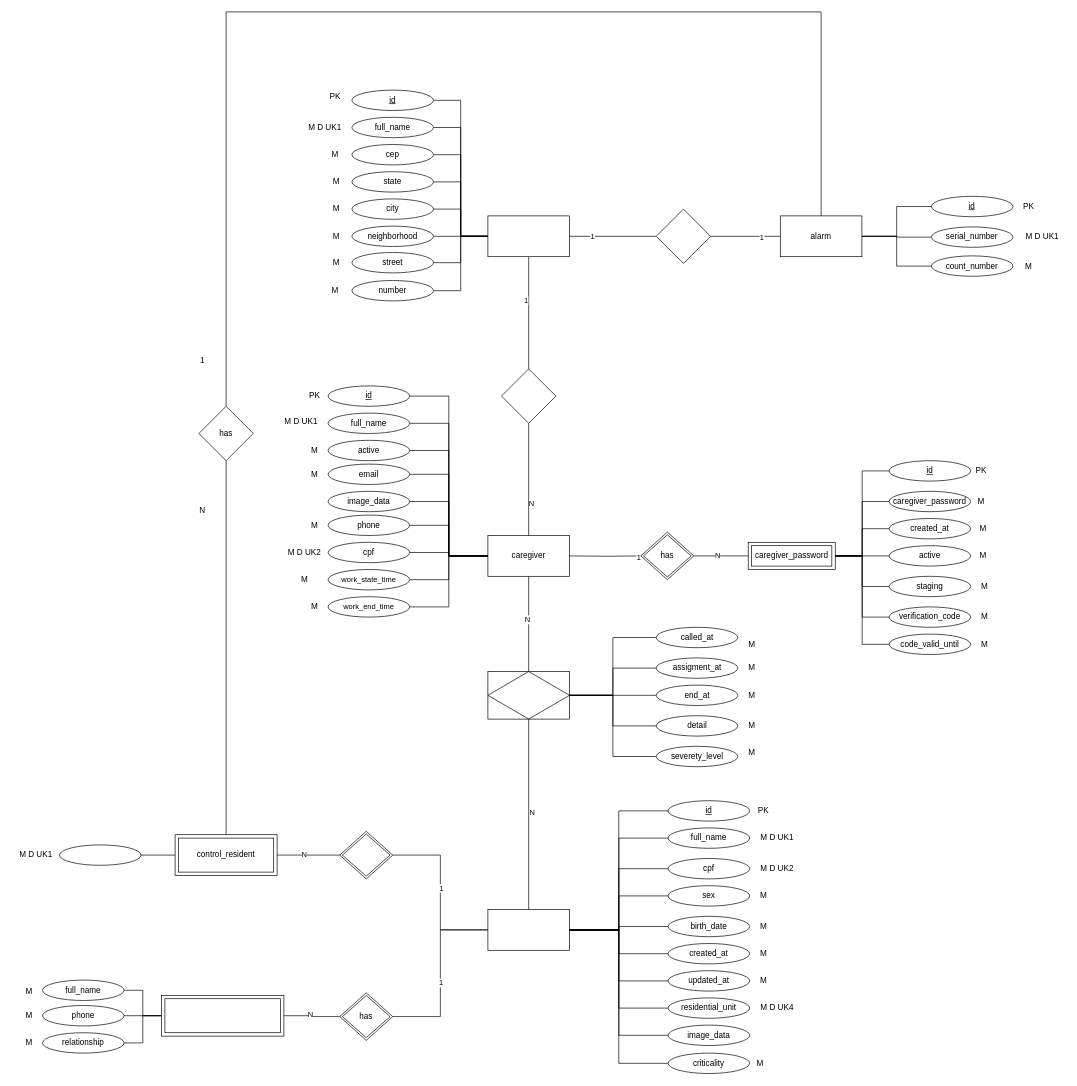
Image size: 1077x1086. Some labels were removed from this diagram. Here are the shapes that lost their labels. From the top down, the box of each, then its label:
(487, 215, 570, 257): organization
(656, 208, 711, 264): manages
(501, 368, 556, 423): employs
(487, 671, 570, 719): assist
(59, 844, 141, 865): control_id
(339, 831, 393, 879): uses
(487, 909, 570, 950): resident
(161, 995, 284, 1036): resident_emergency_contact
